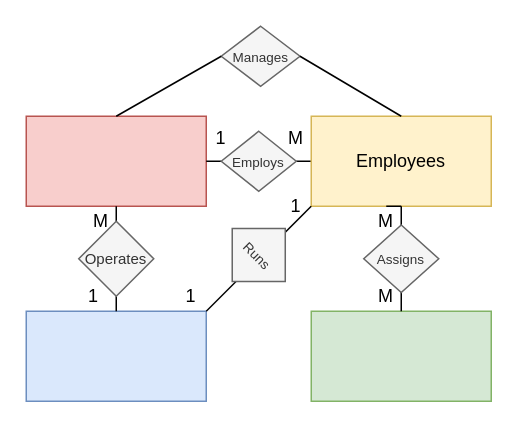
The diagram is 518 pixels wide and 428 high, and some of its shapes have lost their labels. Here are the shapes that lost their labels. From the top down, the centre of each, then its label:
point 115,160: Department
point 115,355: Division
point 400,355: Projects
